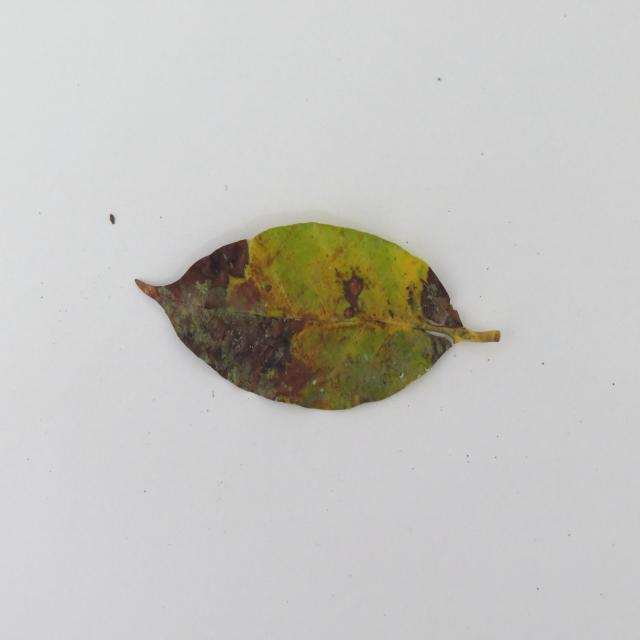DeficienciaNutricional-Potasio: (136, 223, 500, 410)
